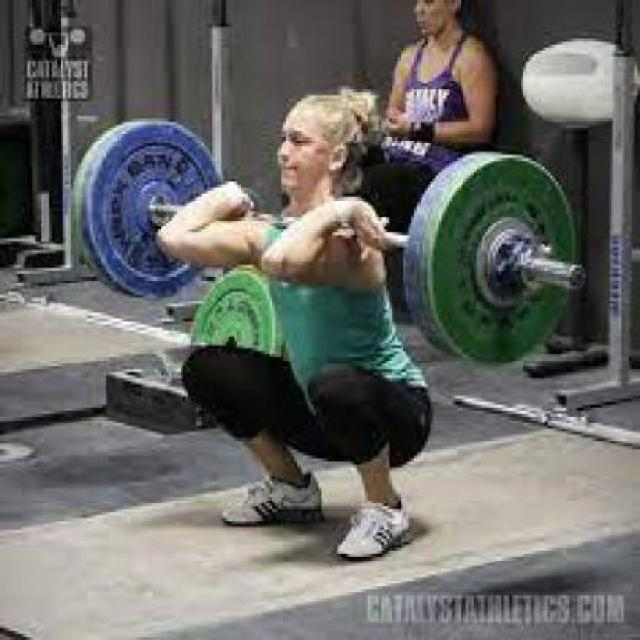barbell: (418, 153, 592, 373)
